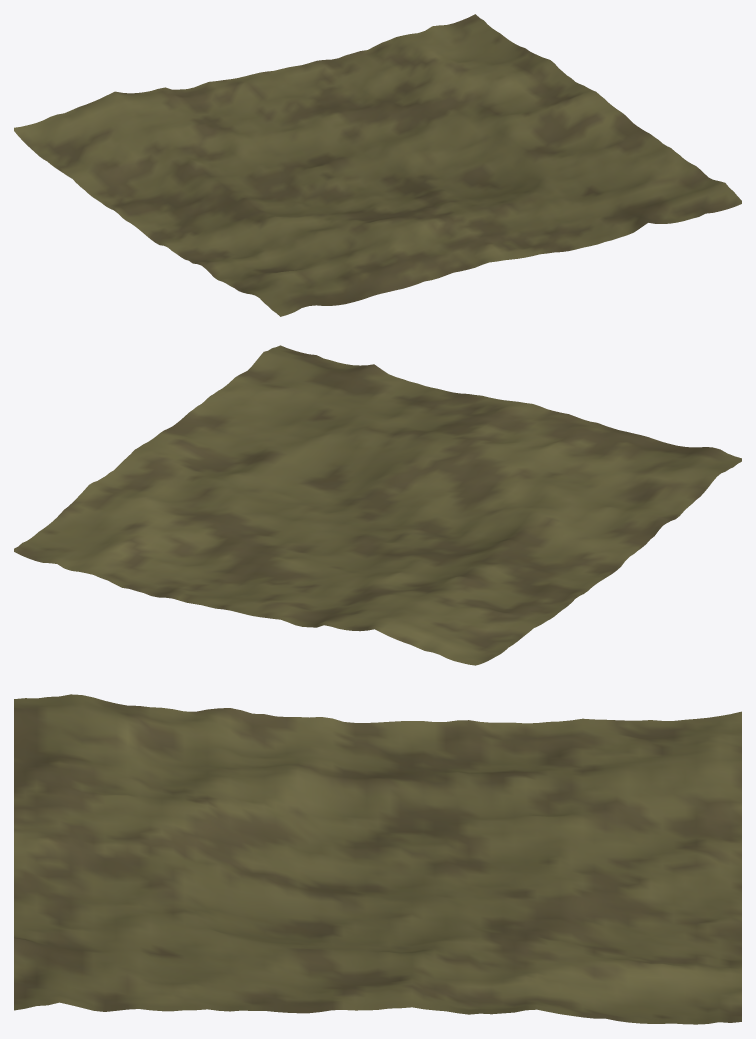
The model's file is land_f_00_08.glb.
The picture shows the model from 3 angles, top to bottom: view 1: azimuth 30°, elevation 25°; view 2: azimuth 150°, elevation 25°; view 3: azimuth 270°, elevation 25°; orthographic projection. The views are drawn at different scales.
Visible parts, largest first — view 1: land_f_00_08; view 2: land_f_00_08; view 3: land_f_00_08.
Part boxes in pixels (<box>): land_f_00_08: <box>14,14,741,316</box>; land_f_00_08: <box>14,345,741,665</box>; land_f_00_08: <box>14,694,741,1024</box>.
Size of the model in its own units: 3840 by 227 by 3840.
